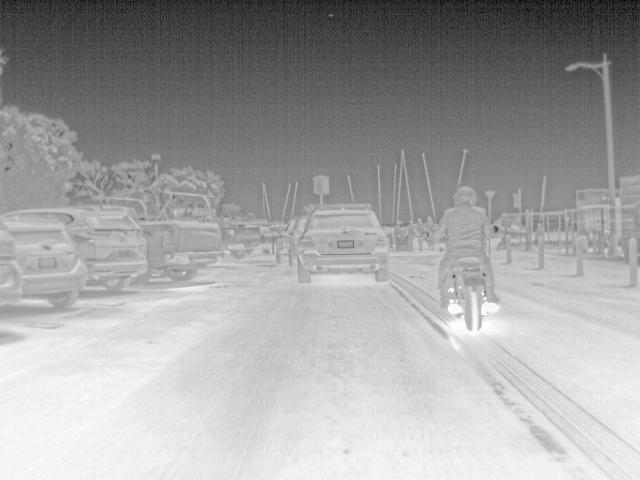car: (3, 208, 147, 294), (72, 204, 224, 282), (1, 215, 85, 312), (295, 204, 391, 282), (160, 207, 250, 254), (289, 214, 308, 264), (272, 226, 290, 260)
person: (435, 186, 494, 322), (391, 215, 403, 255), (412, 218, 426, 252), (423, 213, 436, 249), (402, 220, 414, 252)
